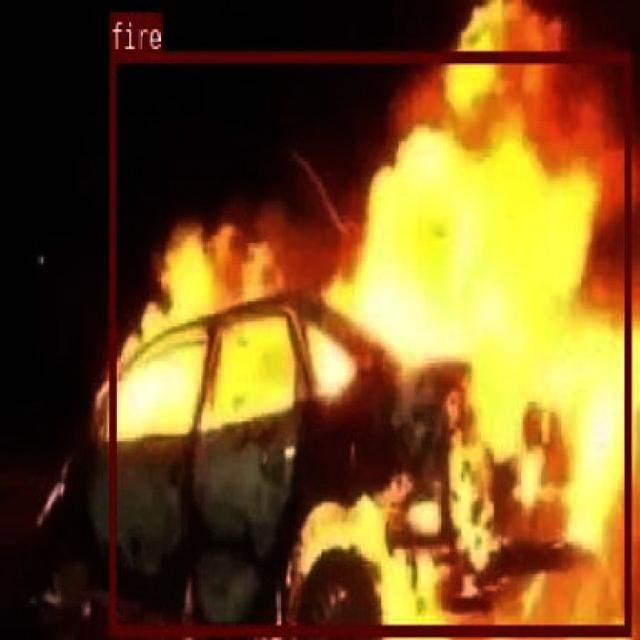fire: (110, 50, 628, 633)
